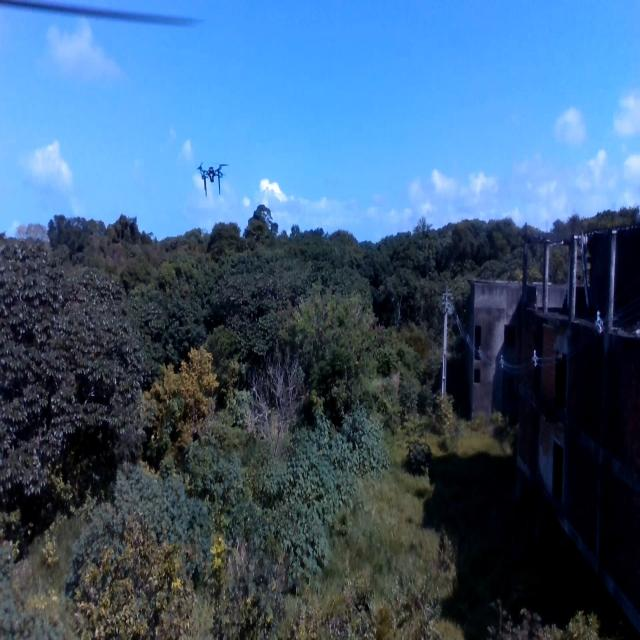-uav-: (192, 156, 232, 203)
